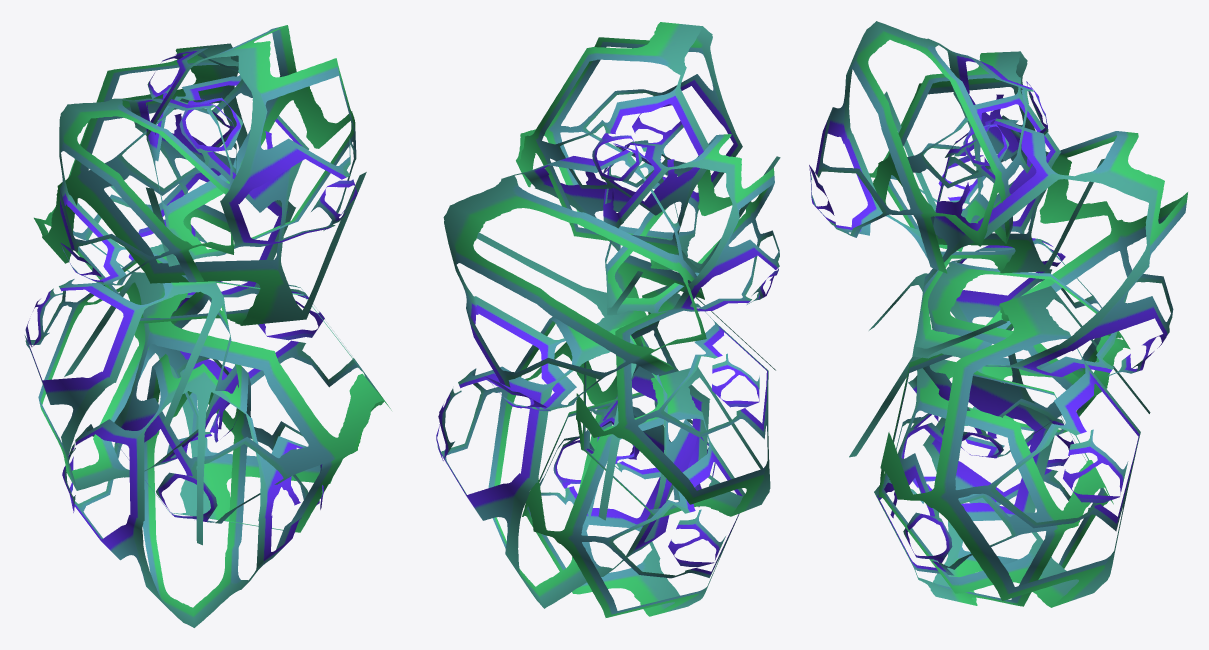
The model's file is FungiA.fbx.
3 renders of one model, left to right at view 1: azimuth 30°, elevation 25°; view 2: azimuth 150°, elevation 25°; view 3: azimuth 270°, elevation 25°, orthographic. The views are drawn at different scales.
Visible parts, largest first — view 1: FungiA.002; view 2: FungiA.002; view 3: FungiA.002.
Boxes of the visible parts, <box> form: FungiA.002: <box>24,25,391,627</box>; FungiA.002: <box>436,22,780,617</box>; FungiA.002: <box>809,21,1187,607</box>.
Bounding box in the file's own units: 1870 × 3250 × 1951.
